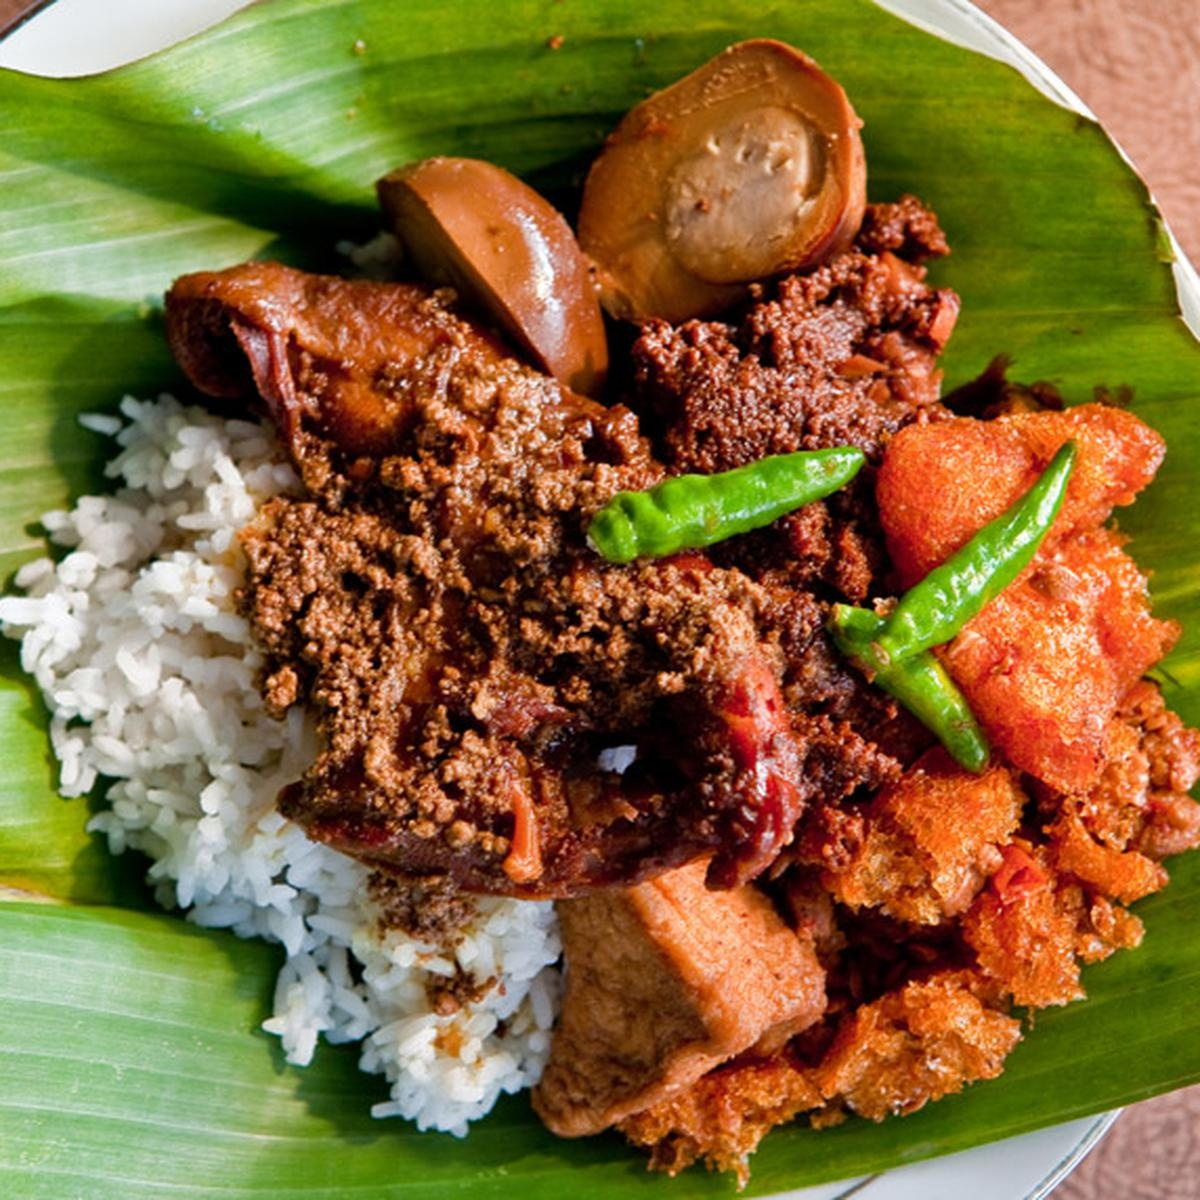gudeg: (58, 51, 1169, 1101)
